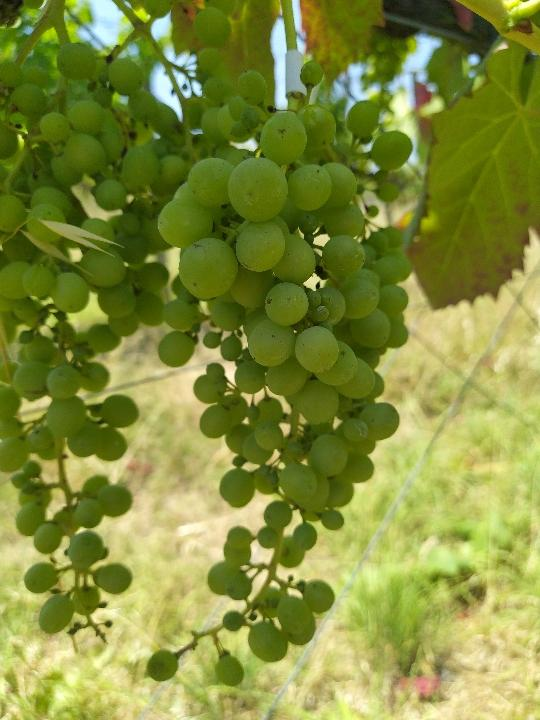grape: (140, 58, 414, 687)
